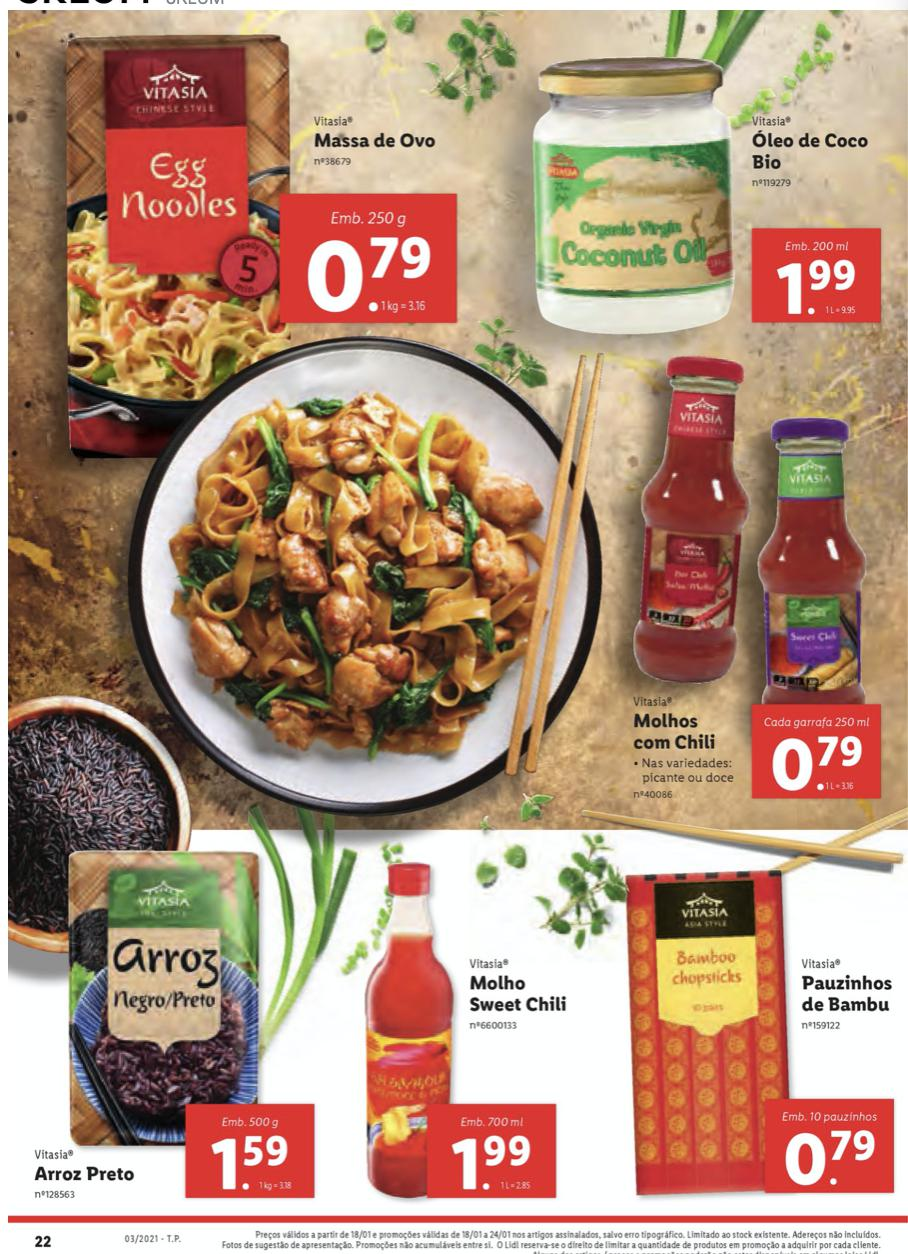name: (744, 128, 879, 173), (461, 970, 572, 1015), (624, 706, 727, 751), (794, 971, 897, 1015), (307, 129, 450, 157), (30, 1159, 141, 1187)
price: (279, 199, 455, 321), (746, 226, 886, 326), (180, 1101, 316, 1201), (752, 704, 885, 799), (427, 1104, 561, 1198), (761, 1098, 893, 1190)
product: (58, 24, 474, 465), (621, 356, 888, 818), (521, 31, 894, 343), (593, 843, 902, 1207), (27, 837, 319, 1210), (341, 853, 580, 1212)
